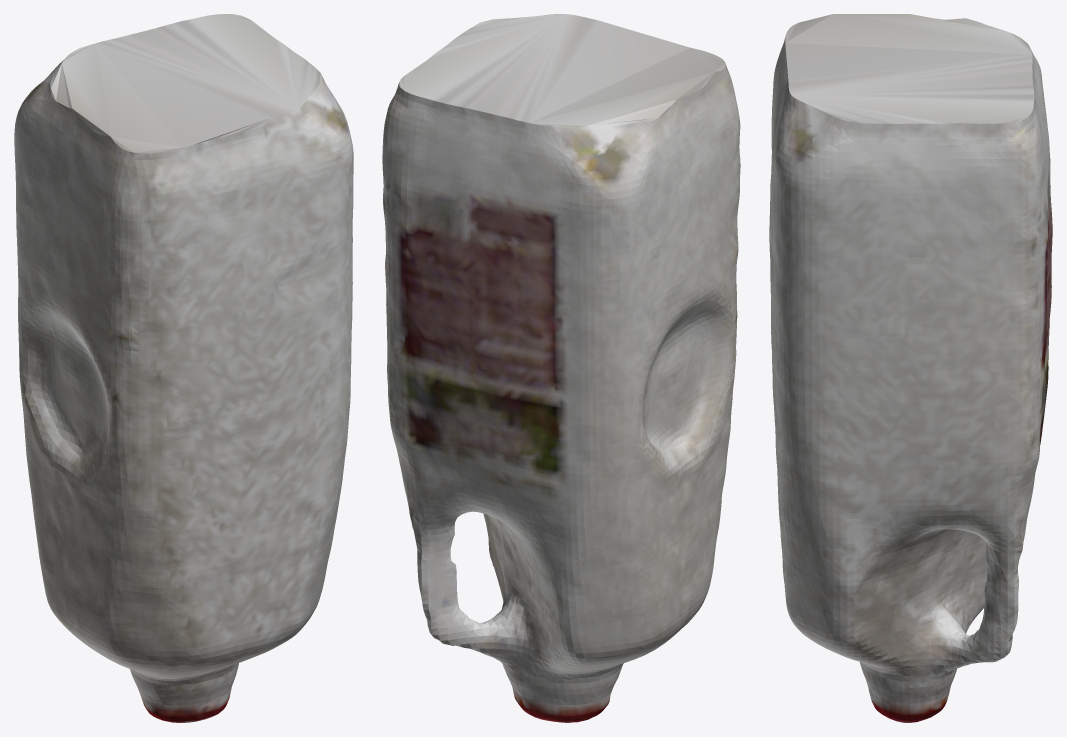
Rendered from milk.dae.
3 views of the same model, side by side, from view 1: azimuth 30°, elevation 25°; view 2: azimuth 150°, elevation 25°; view 3: azimuth 270°, elevation 25° (orthographic).
Parts seen in each view (by area): view 1: node; view 2: node; view 3: node.
Part boxes in pixels (bbox=[...]): node: bbox=[14, 14, 353, 722]; node: bbox=[382, 14, 740, 722]; node: bbox=[769, 14, 1052, 722].
Bounding box in the file's own units: 0.1066 × 0.2543 × 0.1016.
